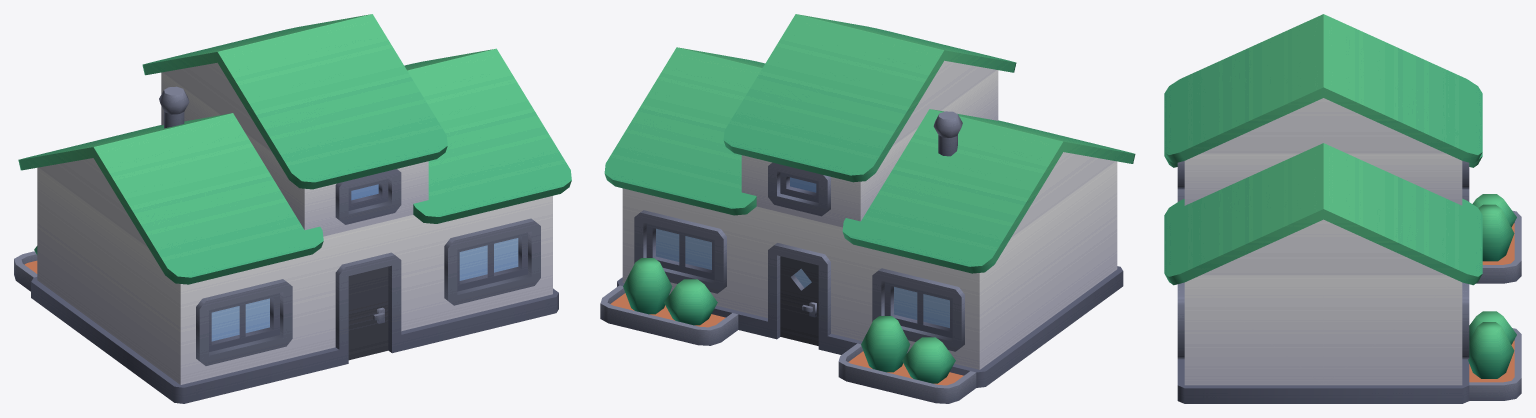
The model's file is building-type-a.draco.glb.
3 renders of one model, left to right at view 1: azimuth 30°, elevation 25°; view 2: azimuth 150°, elevation 25°; view 3: azimuth 270°, elevation 25°, orthographic. The views are drawn at different scales.
Visible parts, largest first — view 1: building-type-a; view 2: building-type-a; view 3: building-type-a.
Boxes of the visible parts, x1,y1,x2,y2 form: building-type-a: [14, 14, 571, 403]; building-type-a: [600, 14, 1135, 403]; building-type-a: [1164, 14, 1521, 403].
Size of the model in its own units: 1.3 by 0.8336 by 1.03.
Materials: 1 (1 with a texture image).
